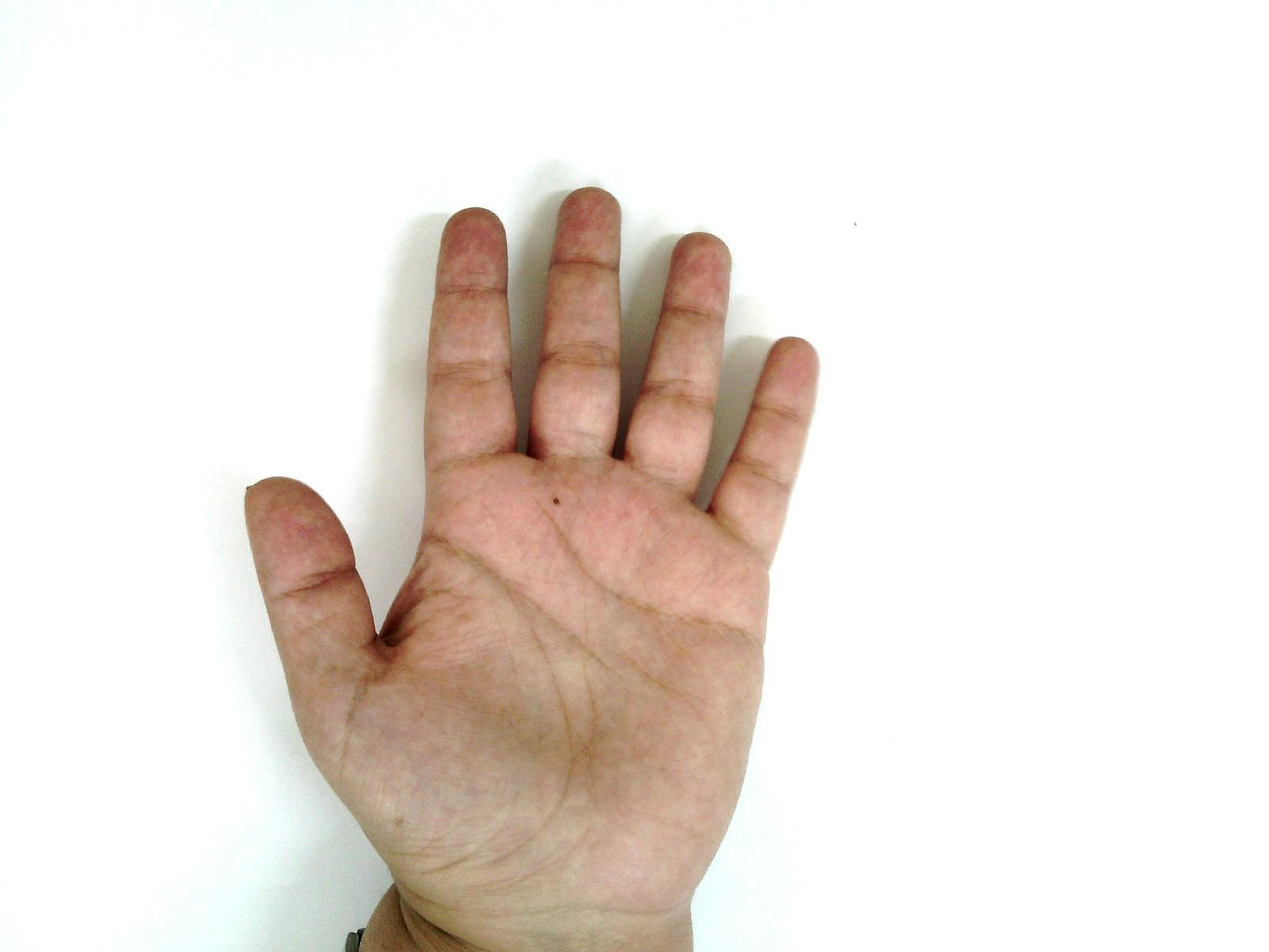open_palm: (242, 186, 823, 920)
